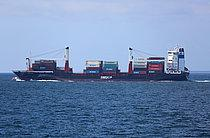Ship: (10, 45, 200, 85)
